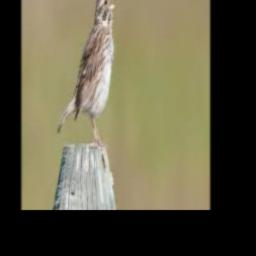Sparrow: (57, 0, 117, 145)
